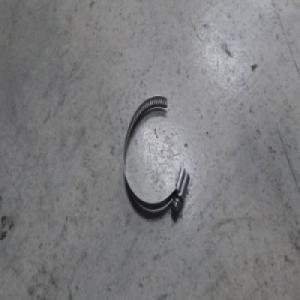AdjustableClamp: (120, 94, 190, 221)
